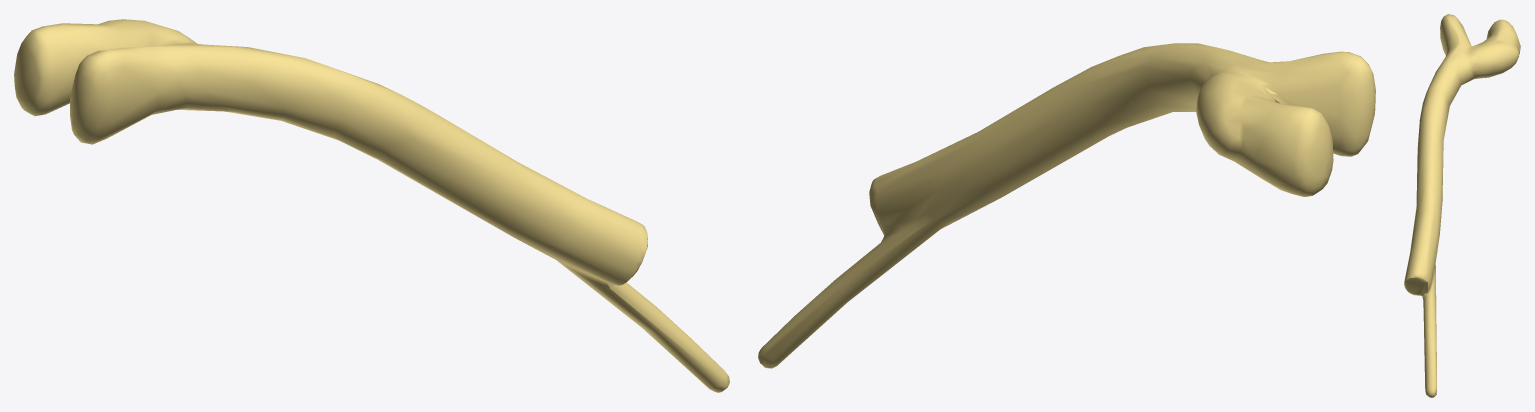
Rendered from fma7013_fj4266.glb.
3 views of the same model, side by side, from view 1: azimuth 30°, elevation 25°; view 2: azimuth 150°, elevation 25°; view 3: azimuth 270°, elevation 25° (orthographic). The views are drawn at different scales.
Visible parts, largest first — view 1: FMA7013_FJ4266; view 2: FMA7013_FJ4266; view 3: FMA7013_FJ4266.
Boxes of the visible parts, x1,y1,x2,y2 form: FMA7013_FJ4266: (14,19,729,392); FMA7013_FJ4266: (758,43,1375,368); FMA7013_FJ4266: (1404,14,1520,397).
Bounding box in the file's own units: 0.0417 × 0.0295 × 0.0132.
